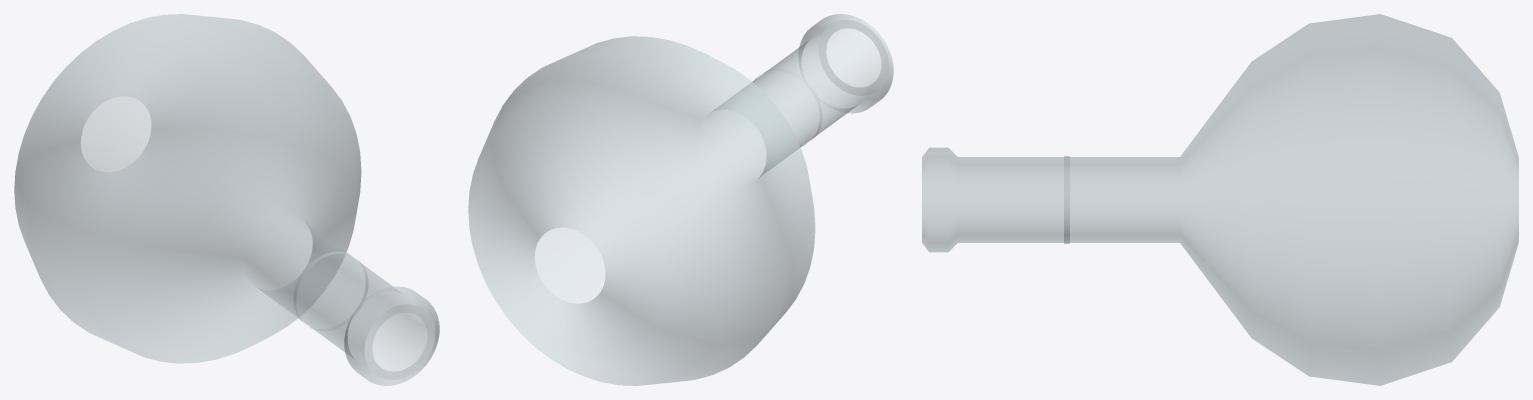
The model's file is modelo.glb.
3 views of the same model, side by side, from view 1: azimuth 30°, elevation 25°; view 2: azimuth 150°, elevation 25°; view 3: azimuth 270°, elevation 25° (orthographic). The views are drawn at different scales.
Visible parts, largest first — view 1: Balao Volumetrico; view 2: Balao Volumetrico; view 3: Balao Volumetrico.
Boxes of the visible parts, box(x1,y1,x2,y2) form: Balao Volumetrico: box(14, 14, 439, 385); Balao Volumetrico: box(468, 14, 893, 385); Balao Volumetrico: box(922, 14, 1518, 385).
Size of the model in its own units: 0.1435 by 0.1435 by 0.23.
